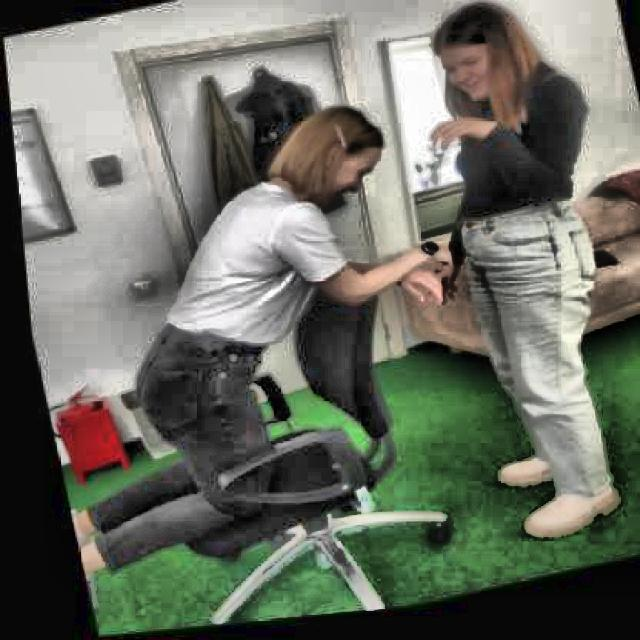cadeira: (105, 257, 467, 632)
